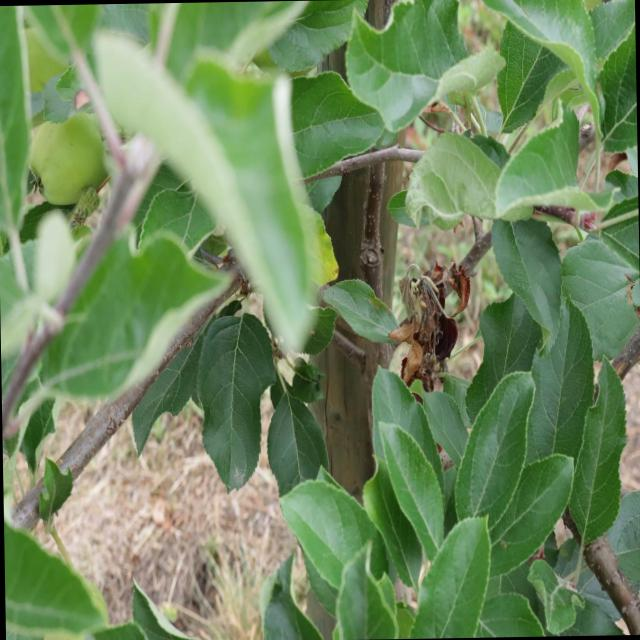-FireBlight-: (381, 268, 472, 372)
